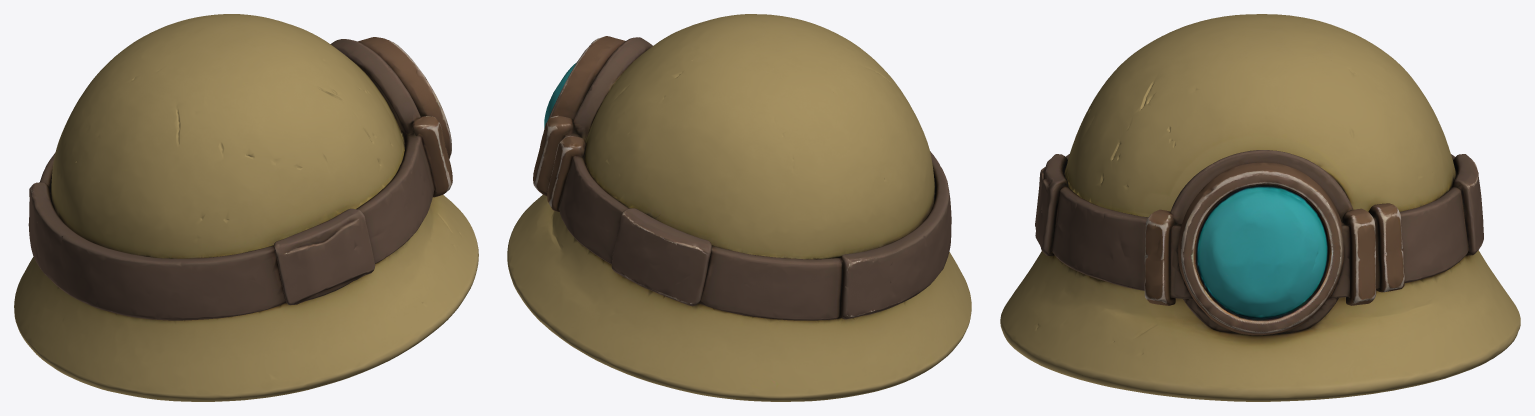
Rendered from headgear_combat_helmet_tripo_raw.glb.
3 views of the same model, side by side, from view 1: azimuth 30°, elevation 25°; view 2: azimuth 150°, elevation 25°; view 3: azimuth 270°, elevation 25° (orthographic). The views are drawn at different scales.
Parts seen in each view (by area): view 1: tripo_node_f2e9f711-6147-4e5e-ae77-c64c67916ef6; view 2: tripo_node_f2e9f711-6147-4e5e-ae77-c64c67916ef6; view 3: tripo_node_f2e9f711-6147-4e5e-ae77-c64c67916ef6.
Part boxes in pixels (x1,y1,x2,y2): tripo_node_f2e9f711-6147-4e5e-ae77-c64c67916ef6: (14,14,478,401); tripo_node_f2e9f711-6147-4e5e-ae77-c64c67916ef6: (507,14,971,401); tripo_node_f2e9f711-6147-4e5e-ae77-c64c67916ef6: (1000,14,1520,401).
Bounding box in the file's own units: 0.9961 × 0.6805 × 1.
Materials: 1 (1 with a texture image).
